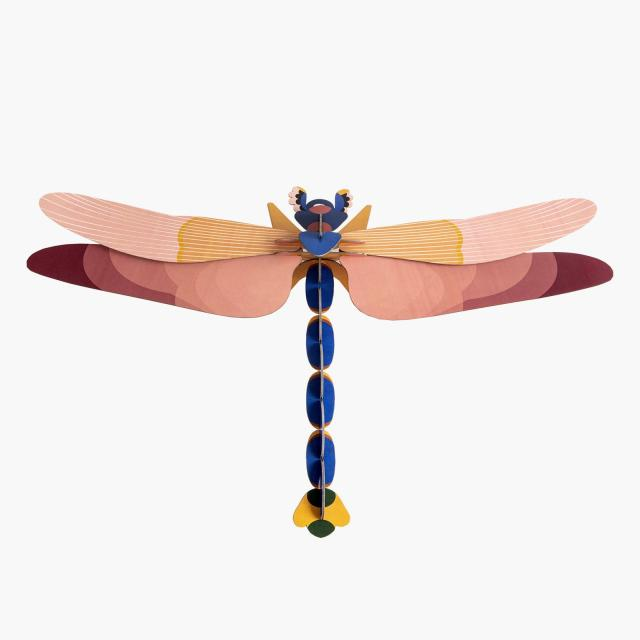dragonfly: (27, 187, 613, 537)
